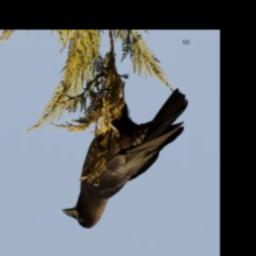Crow: (60, 82, 189, 234)
